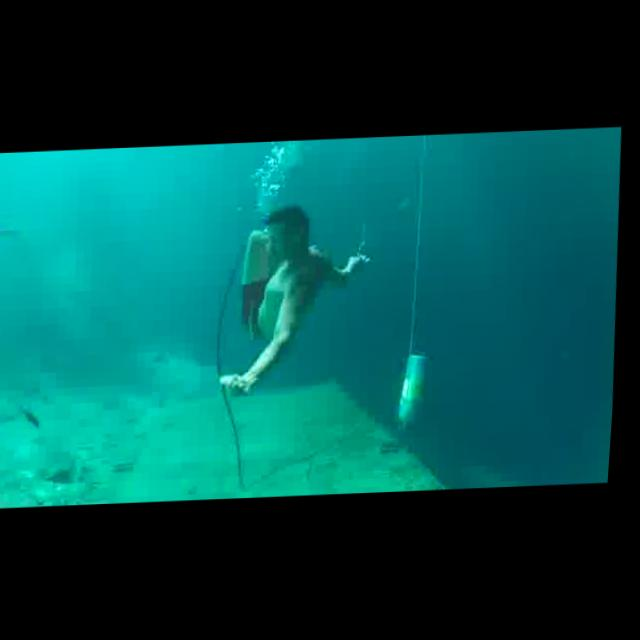human: (211, 167, 386, 405)
